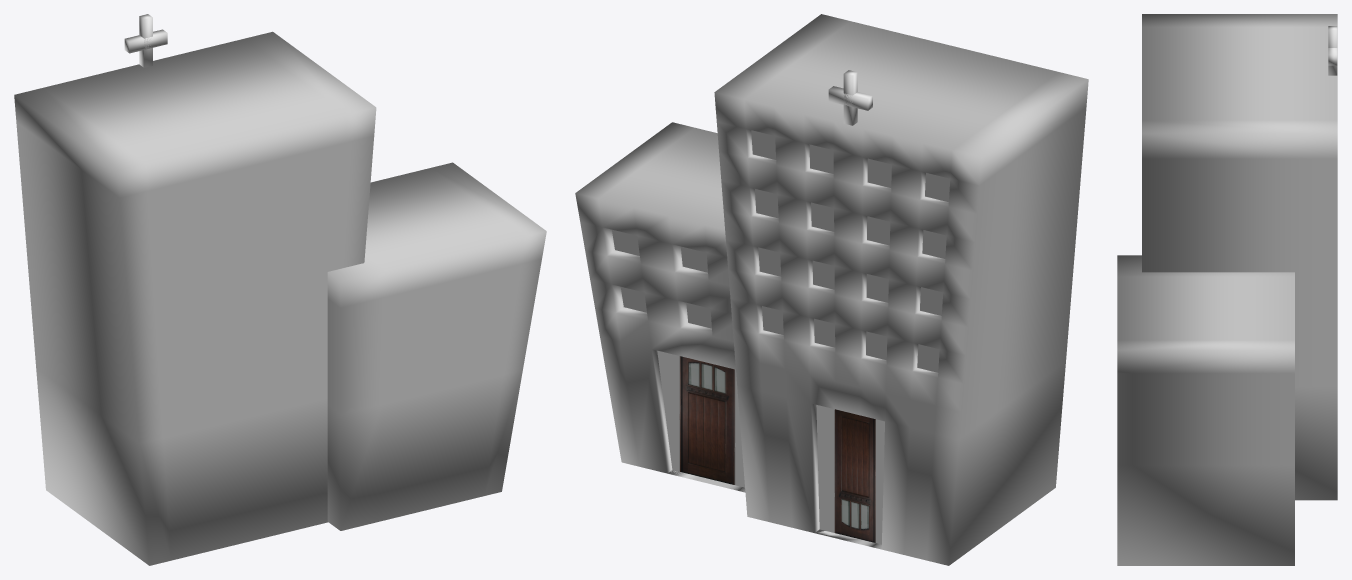
The model's file is Clinic.fbx.
3 renders of one model, left to right at view 1: azimuth 30°, elevation 25°; view 2: azimuth 150°, elevation 25°; view 3: azimuth 270°, elevation 25°, orthographic. The views are drawn at different scales.
Parts seen in each view (by area): view 1: clinic, clinicSign; view 2: clinic, doors, windows, clinicSign; view 3: clinic, clinicSign.
Part boxes in pixels (<box>): clinic: <box>14,31,546,565</box>; clinicSign: <box>124,14,167,67</box>; clinic: <box>575,14,1088,565</box>; doors: <box>657,350,884,544</box>; windows: <box>612,130,950,372</box>; clinicSign: <box>828,70,872,125</box>; clinic: <box>1117,14,1337,565</box>; clinicSign: <box>1328,26,1337,75</box>.
Size of the model in its own units: 59.56 by 61.75 by 28.89.
